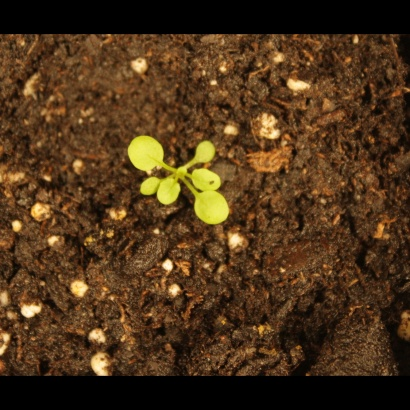leaf: (122, 132, 168, 173), (189, 189, 232, 227), (190, 164, 223, 194), (188, 139, 219, 166), (155, 176, 181, 208), (139, 175, 163, 198)
